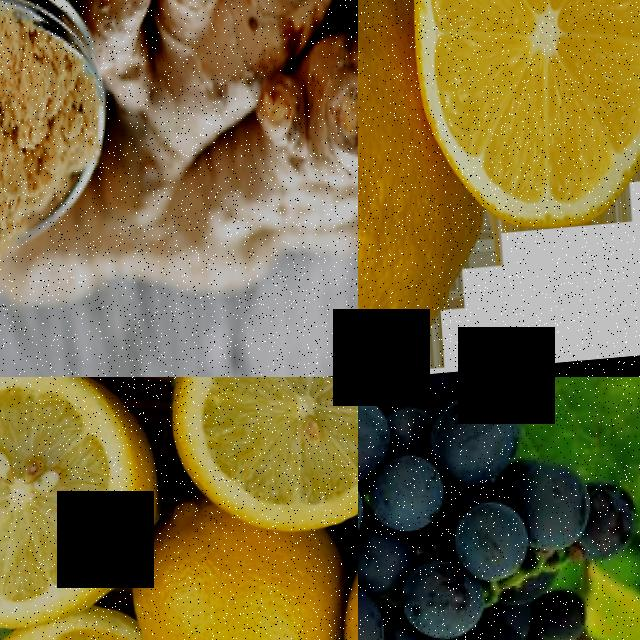ginger: (81, 0, 340, 185), (178, 31, 358, 296)
grapes: (358, 377, 519, 640)
lemon: (426, 0, 640, 242), (0, 377, 132, 620), (358, 0, 430, 377), (166, 377, 358, 507), (130, 528, 349, 640)
